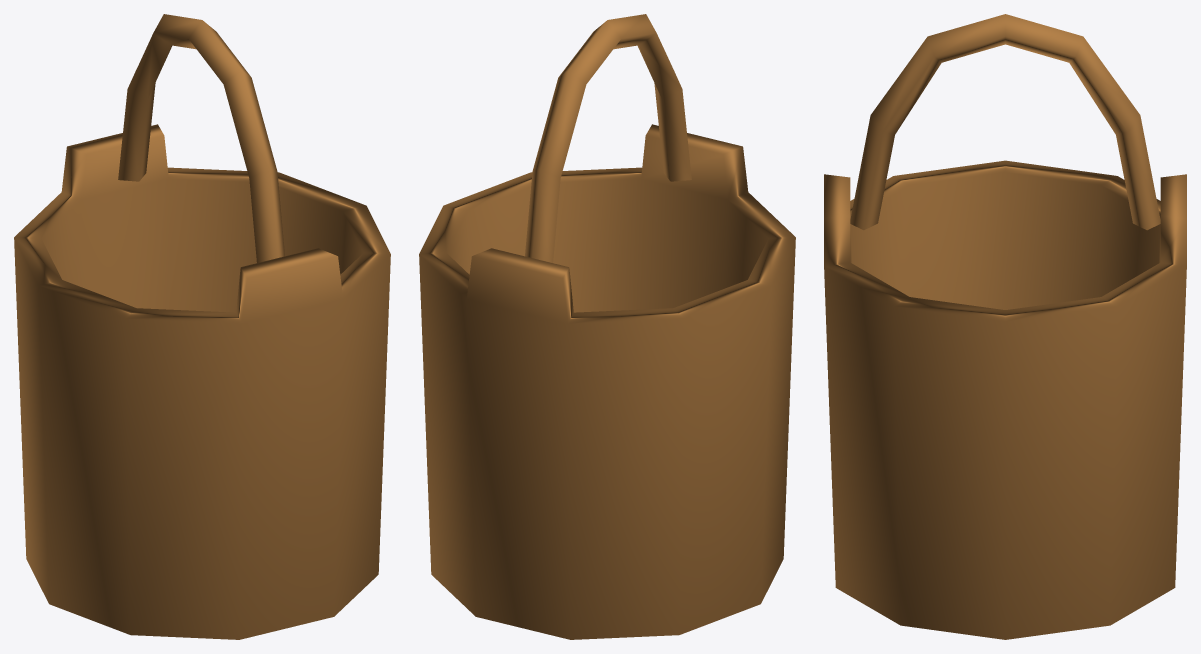
Rendered from woodenBucket.fbx.
3 renders of one model, left to right at view 1: azimuth 30°, elevation 25°; view 2: azimuth 150°, elevation 25°; view 3: azimuth 270°, elevation 25°, orthographic.
Visible parts, largest first — view 1: woodenBucket; view 2: woodenBucket; view 3: woodenBucket.
Part boxes in pixels (box(x1,y1,x2,y2)): woodenBucket: box(14, 14, 390, 639); woodenBucket: box(419, 14, 795, 639); woodenBucket: box(824, 14, 1186, 639).
Bounding box in the file's own units: 0.2922 × 0.4652 × 0.2779.
